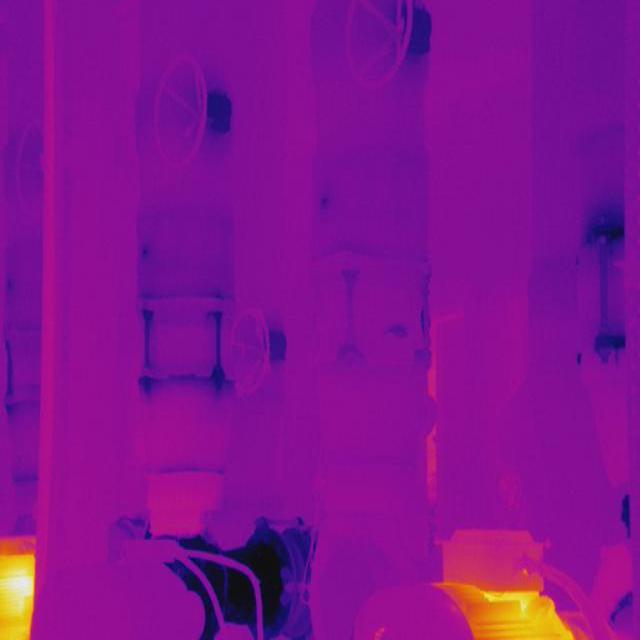leakage: (379, 317, 414, 344), (315, 186, 338, 218), (136, 242, 160, 265)
